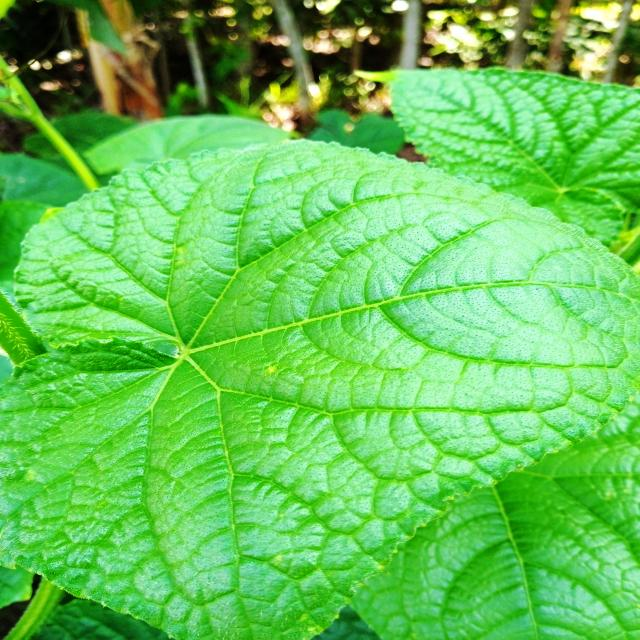Fresh-Leaf: (0, 139, 640, 640)
